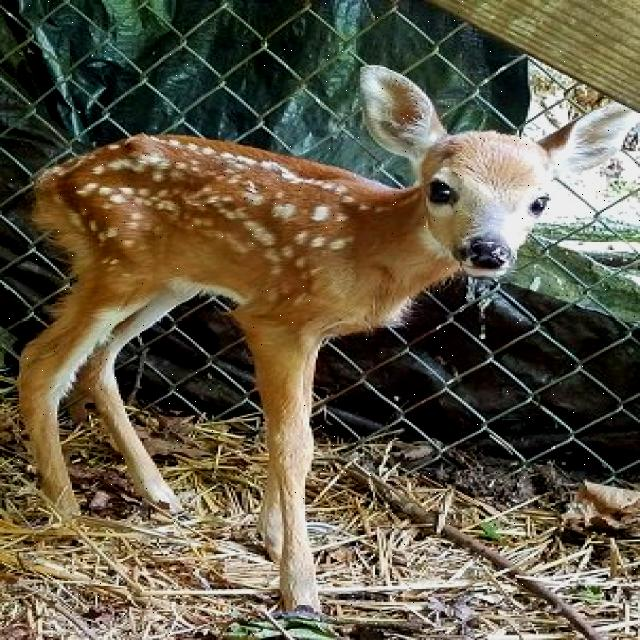deer: (266, 53, 620, 301)
